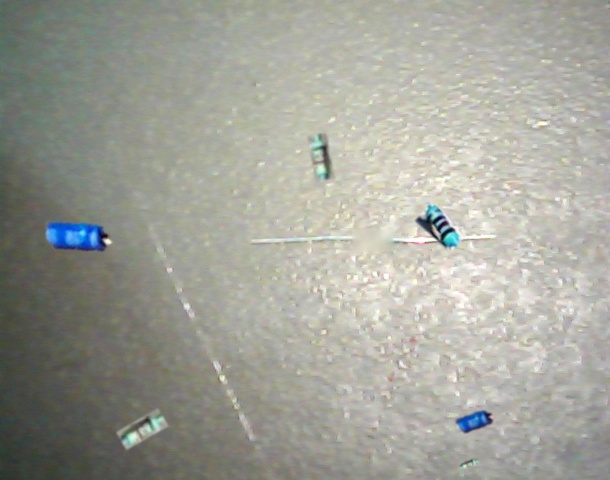capacitor: (46, 221, 112, 252), (455, 410, 494, 434)
resistor: (416, 202, 467, 252), (117, 409, 168, 450), (307, 133, 335, 182), (459, 457, 479, 470)
